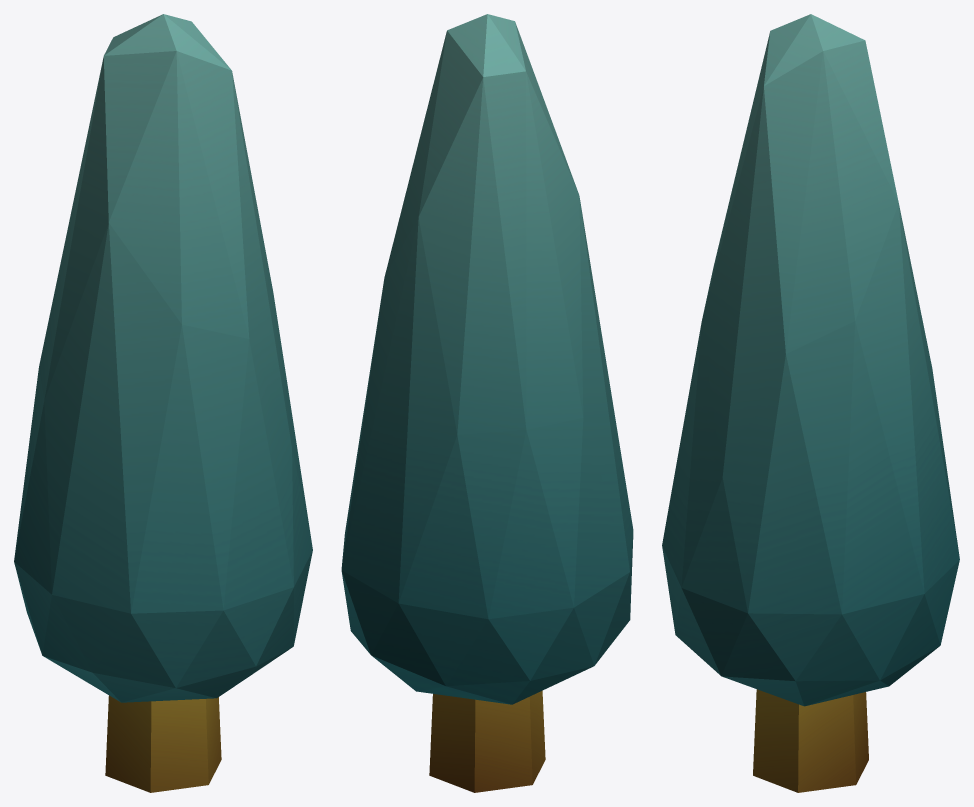
File: treeTallOne3.fbx
3 views of the same model, side by side, from view 1: azimuth 30°, elevation 25°; view 2: azimuth 150°, elevation 25°; view 3: azimuth 270°, elevation 25° (orthographic).
Parts seen in each view (by area): view 1: Cylinder.003; view 2: Cylinder.003; view 3: Cylinder.003.
Part boxes in pixels (<box>): Cylinder.003: <box>14,14,312,792</box>; Cylinder.003: <box>341,14,633,792</box>; Cylinder.003: <box>662,14,959,792</box>.
Bounding box in the file's own units: 153 × 433 × 155.
